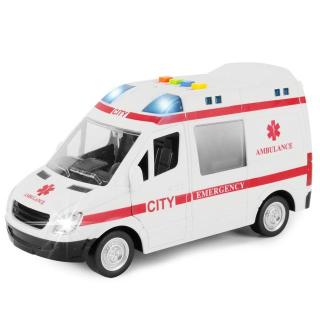Ambulance: (3, 61, 319, 281)
